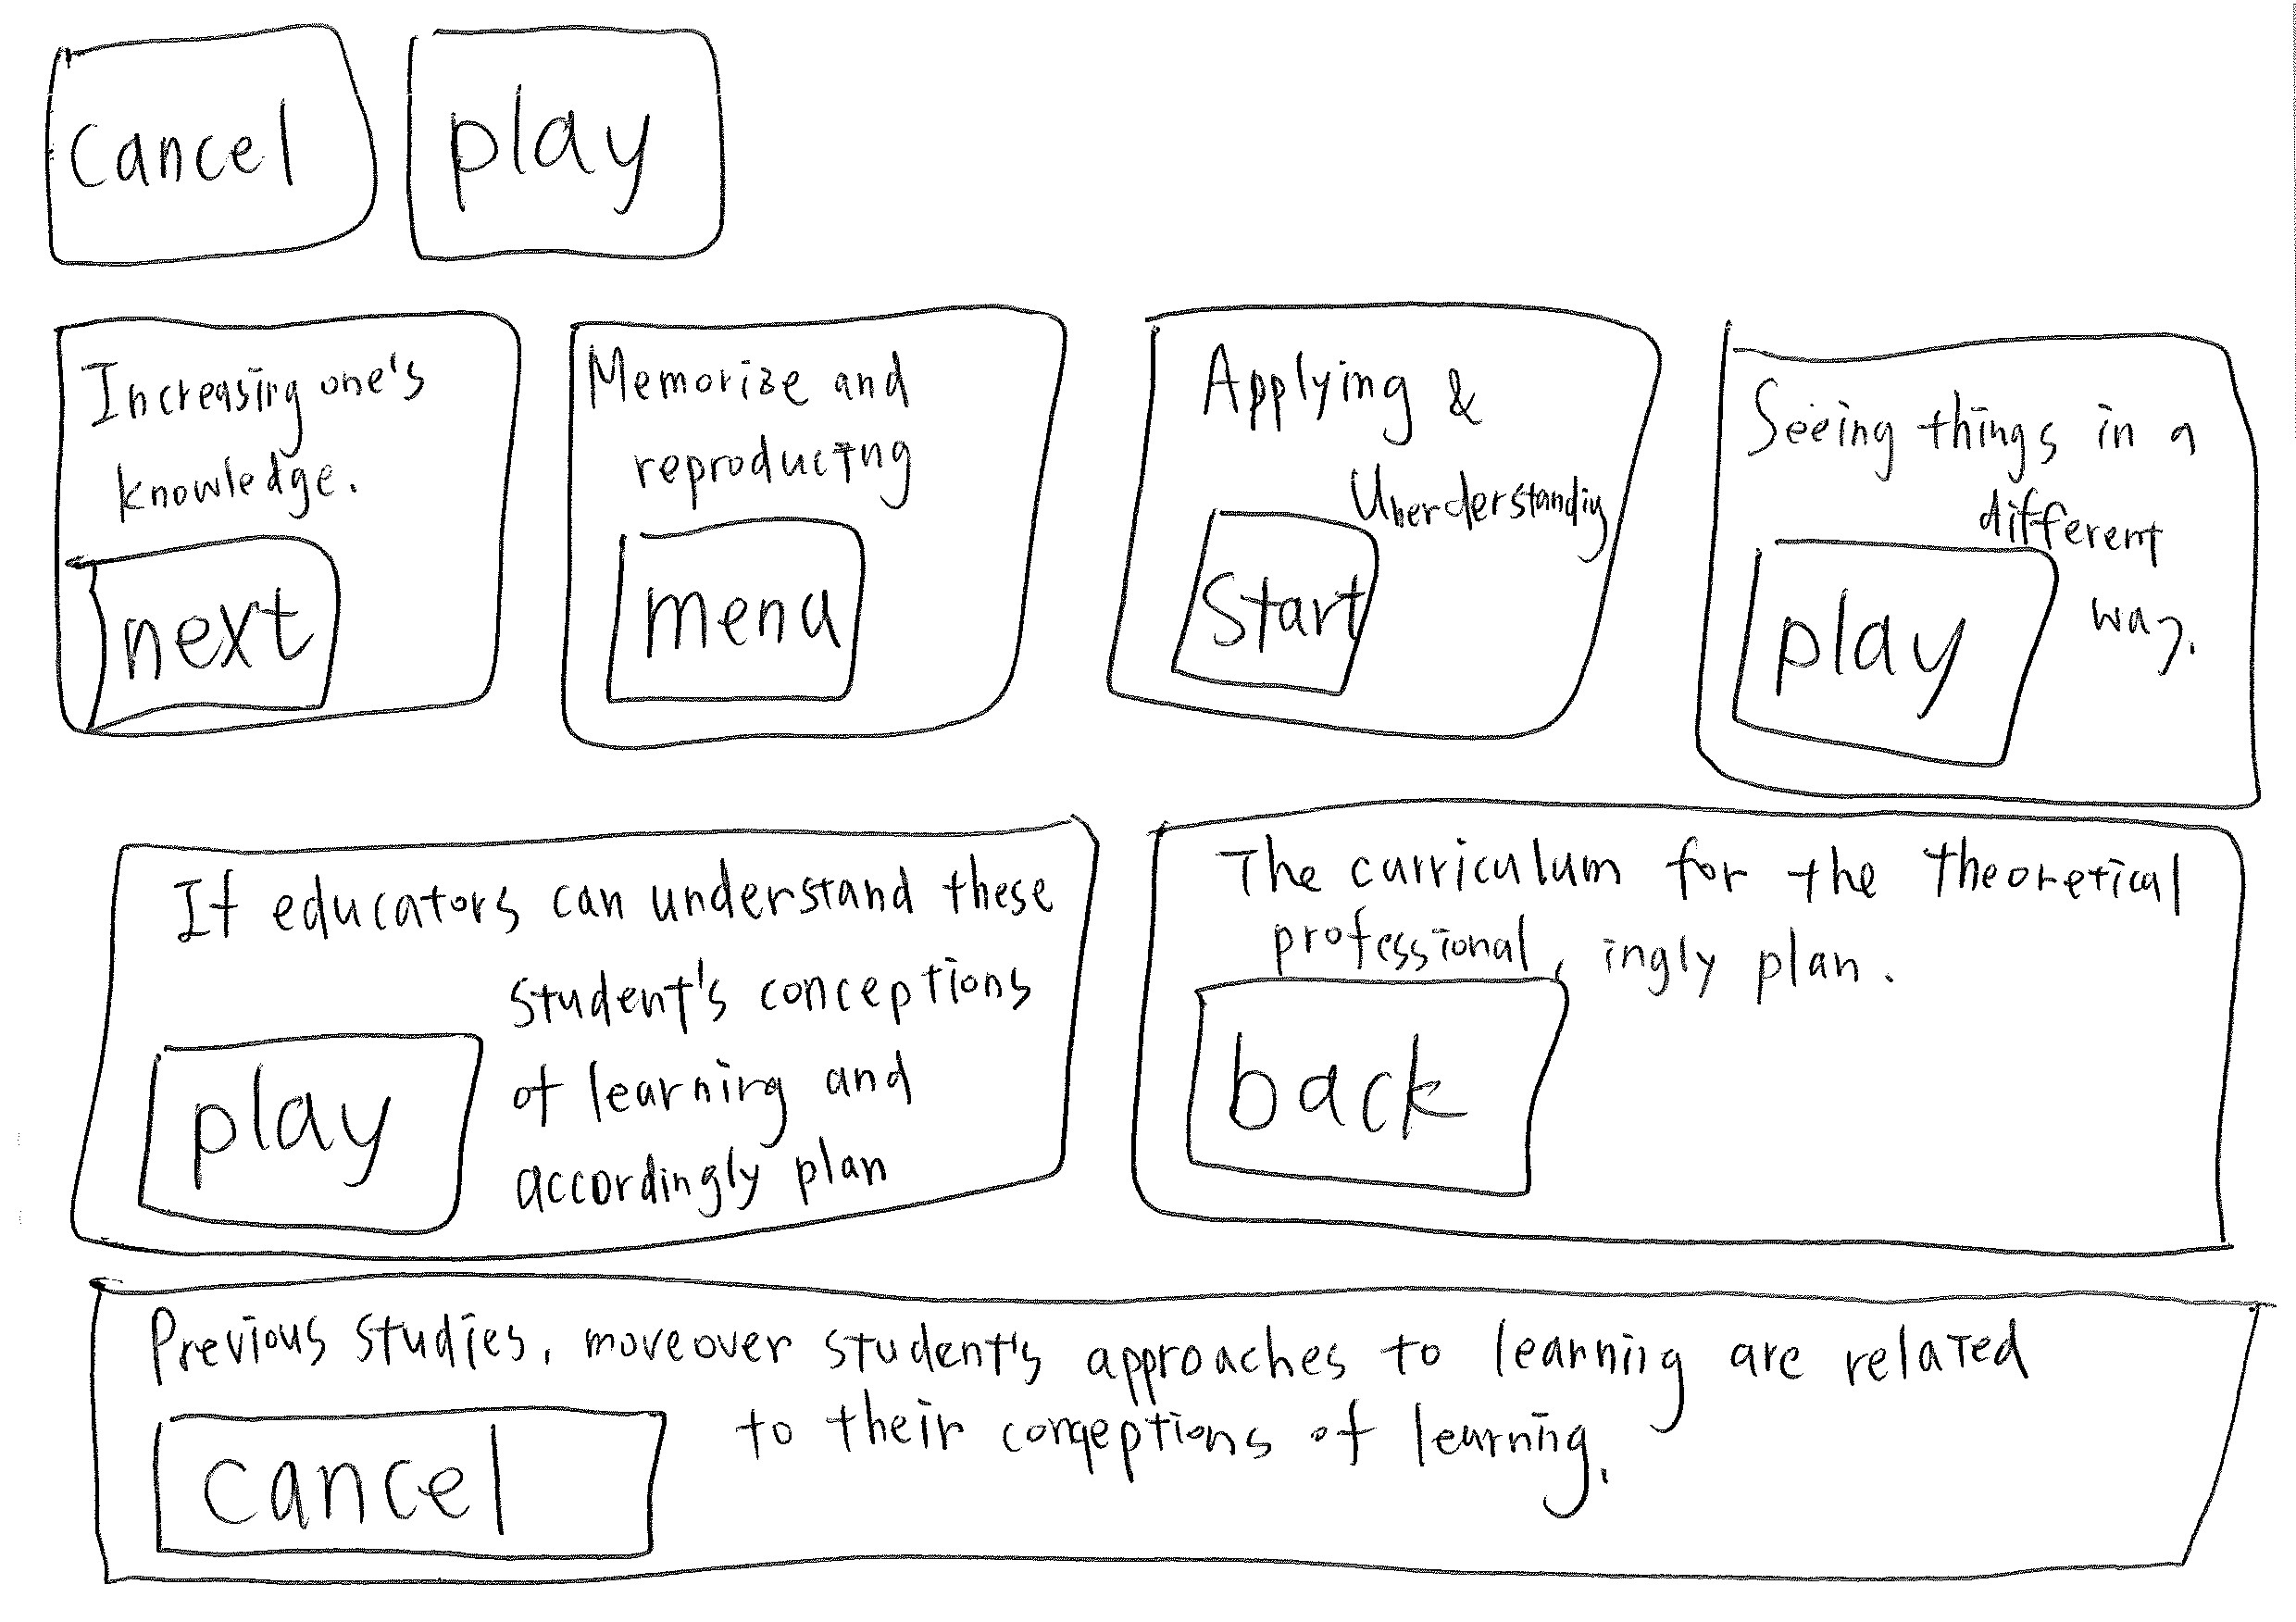back: (1174, 965, 1594, 1218)
cancel: (14, 21, 407, 293), (128, 1397, 702, 1569)
double: (1115, 779, 2296, 1281), (40, 785, 1127, 1276)
menu: (581, 518, 883, 718)
next: (60, 530, 370, 750)
play: (388, 14, 769, 281), (1715, 520, 2078, 781), (119, 997, 495, 1238)
quadruple: (1682, 307, 2271, 830), (1101, 263, 1692, 785), (542, 274, 1083, 779), (39, 288, 542, 774)
row: (16, 256, 2296, 839), (16, 728, 2296, 1311), (12, 1238, 2292, 1601), (16, 11, 2296, 288)
single: (32, 1255, 2282, 1622)
small-title: (144, 1299, 2052, 1394), (1197, 837, 2187, 906), (1750, 372, 2229, 484), (154, 871, 1053, 930), (97, 356, 453, 442), (1187, 337, 1506, 425), (593, 342, 943, 411)
start: (1159, 483, 1404, 702)
text: (706, 1359, 1645, 1510), (511, 925, 1034, 1185), (1234, 906, 1938, 990), (634, 425, 979, 492), (2094, 516, 2208, 706), (105, 469, 400, 521), (1353, 470, 1610, 527), (1994, 481, 2177, 546)
